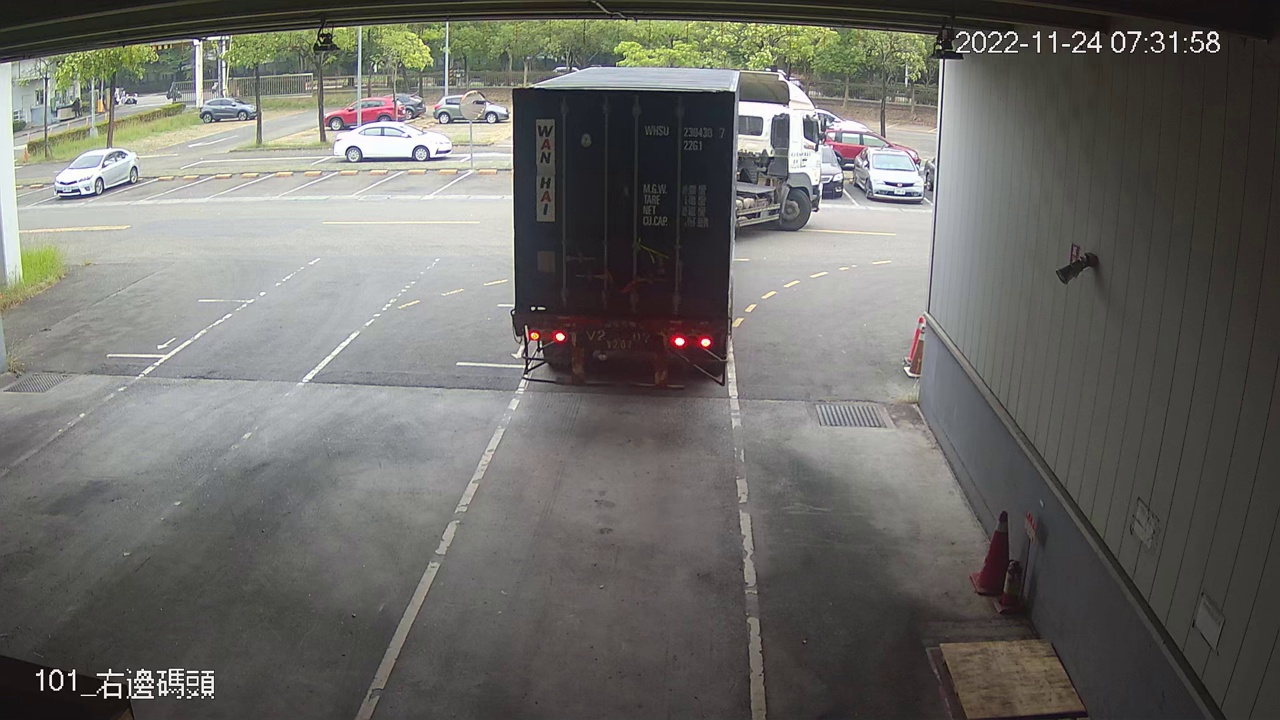container: (640, 118, 728, 156)
